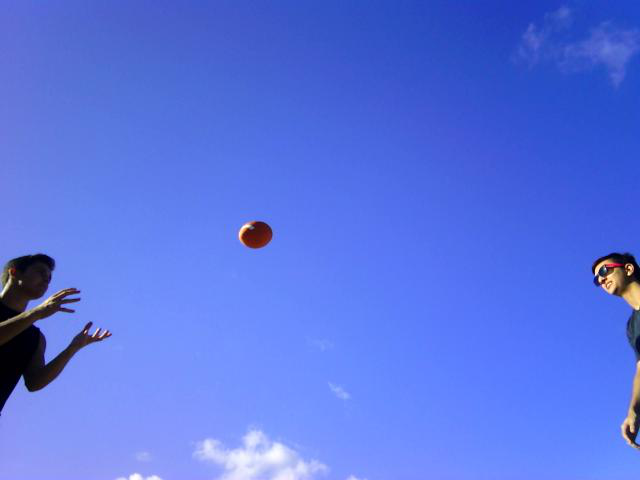football: (236, 217, 276, 251)
